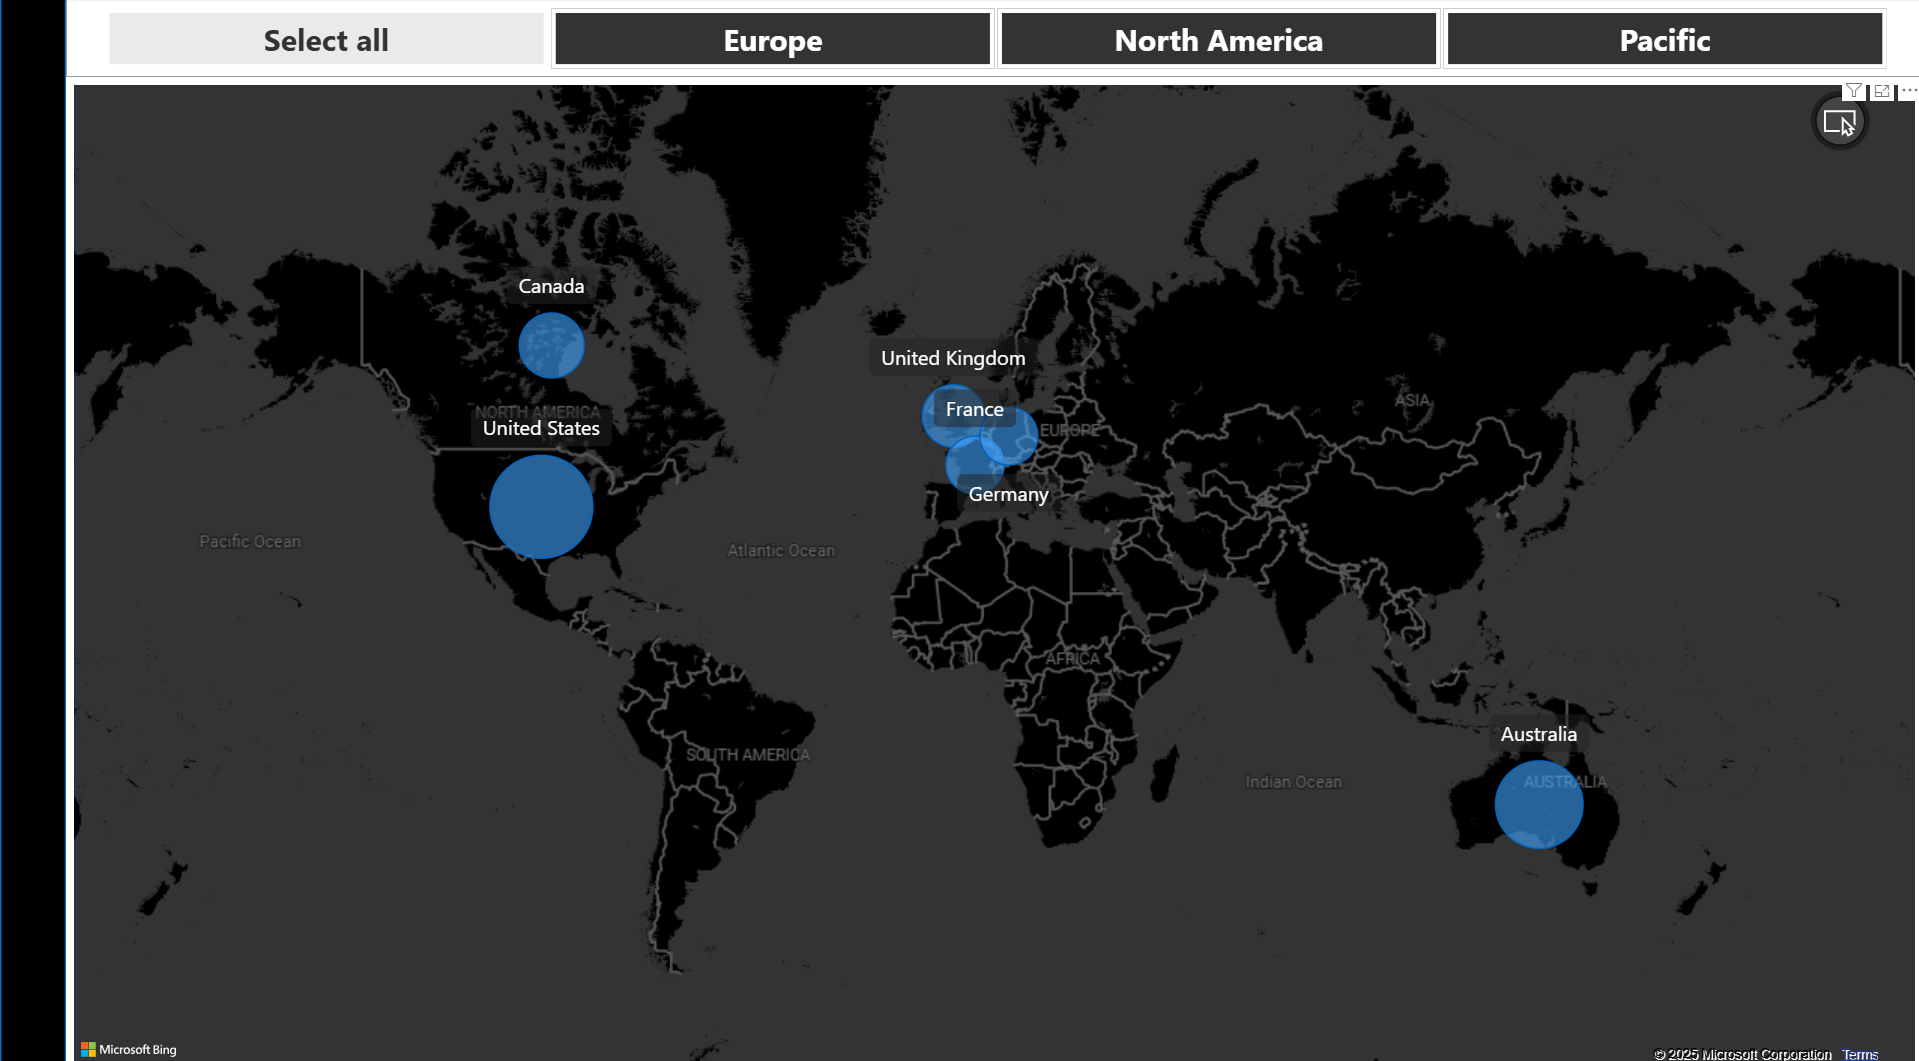

What the dashboard file says about the page in this screenshot:
{"tool":"powerbi","page":{"name":"Map","canvas":[1280,720],"ordinal":1},"visuals":[{"type":"shape","box":[0,0,44.1,720.1],"z":0},{"type":"map","fields":{"Category":["Territory Lookup.Country"],"Size":["Measure Table.Total Orders"]},"box":[43.9,52.6,1235.9,667.4],"z":1000},{"type":"slicer","fields":{"Values":["Territory Lookup.Continent"]},"box":[43.9,0,1235.9,52.6],"z":2000}]}

Visuals, with their boxes in screenshot pixels (x1, y1, x2, y2), scaled from the page's 1280x720 canvas onto the 1919x1061 screenshot:
shape: 0 0 66 1060
map - Territory Lookup.Country x Measure Table.Total Orders: 66 78 1918 1060
slicer - Territory Lookup.Continent: 66 0 1918 78
